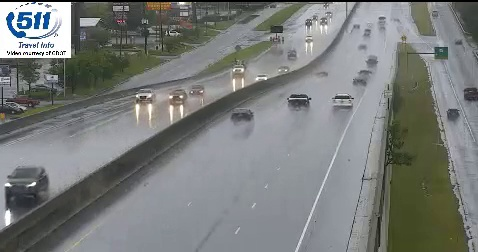car: (287, 94, 310, 110), (232, 108, 254, 122), (332, 94, 353, 108)
